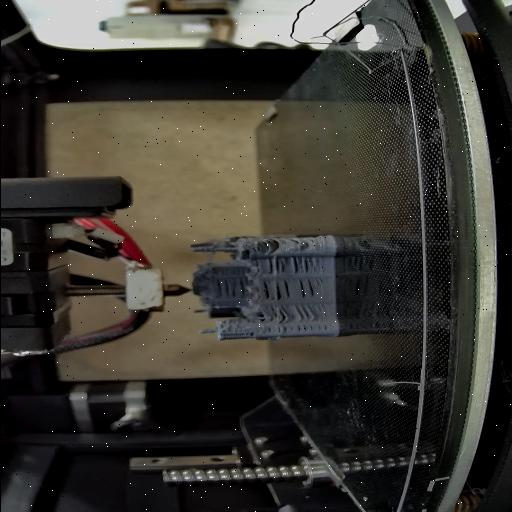cracks: (262, 256, 322, 276), (210, 276, 246, 300), (259, 280, 291, 300), (267, 324, 327, 334), (297, 276, 323, 298), (266, 305, 292, 325), (292, 304, 316, 322), (256, 236, 279, 252), (284, 240, 311, 250), (243, 332, 256, 337)
